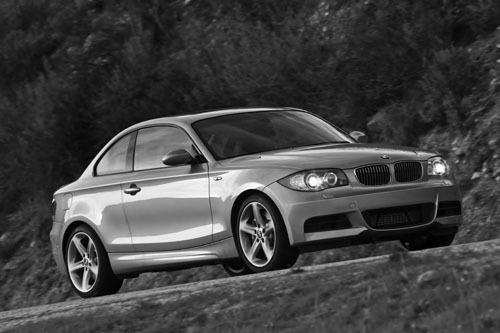car: (55, 102, 469, 297)
